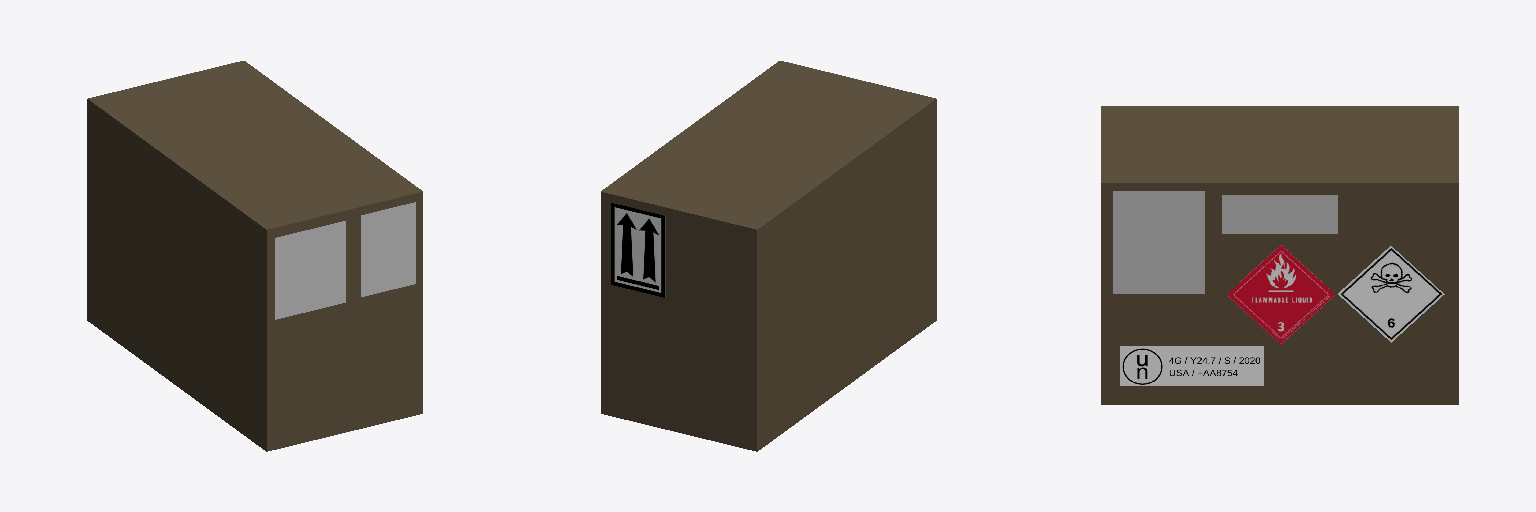
3 views of the same model, side by side, from view 1: azimuth 30°, elevation 25°; view 2: azimuth 150°, elevation 25°; view 3: azimuth 270°, elevation 25° (orthographic).
Visible parts, largest first — view 1: Cube, Screenshot_2025-04-01_151141, Screenshot_2025-04-02_141838; view 2: Cube, image30; view 3: Cube, Screenshot_2025-04-02_141724, image29, image32, image53, text1.
Boxes of the visible parts, <box> form: Cube: <box>87,61,422,451</box>; Screenshot_2025-04-01_151141: <box>275,221,345,319</box>; Screenshot_2025-04-02_141838: <box>361,202,415,296</box>; Cube: <box>601,61,936,451</box>; image30: <box>611,203,665,297</box>; Cube: <box>1101,106,1458,404</box>; Screenshot_2025-04-02_141724: <box>1113,191,1204,293</box>; image29: <box>1120,346,1263,385</box>; image32: <box>1227,245,1334,343</box>; image53: <box>1338,246,1444,342</box>; text1: <box>1222,195,1337,233</box>.
Bounding box in the file's own units: 2.02 × 2.71 × 3.98.
9 materials, 4 textured.